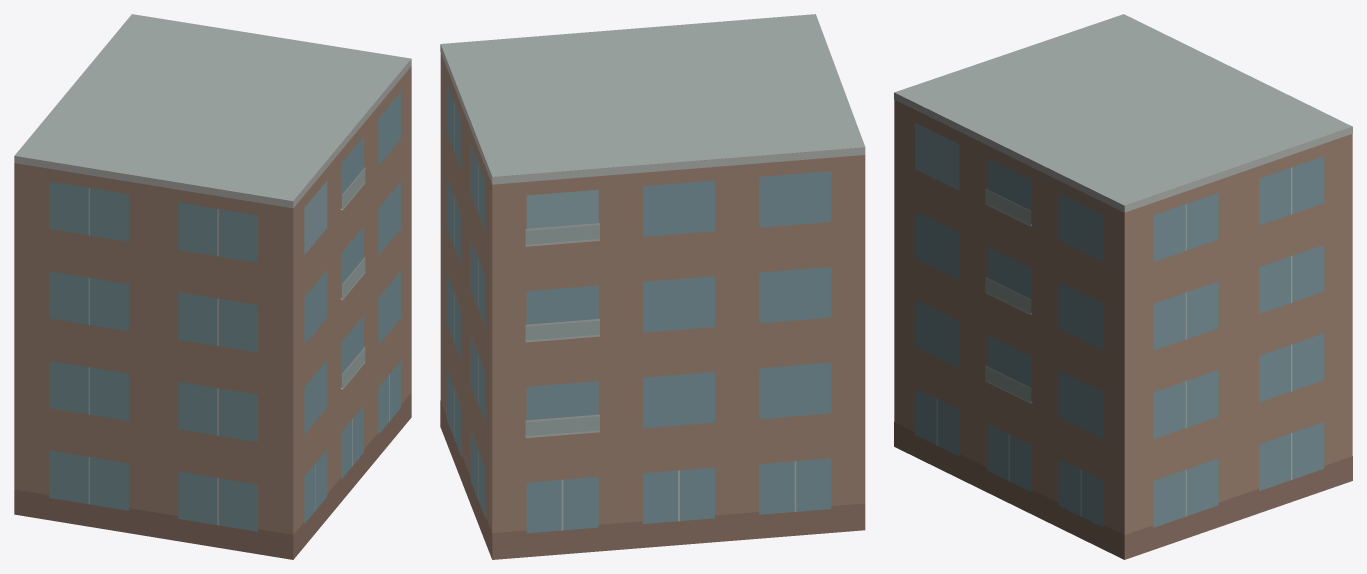
The model's file is survey-upis-32844860.glb.
The picture shows the model from 3 angles, left to right: view 1: azimuth 30°, elevation 25°; view 2: azimuth 150°, elevation 25°; view 3: azimuth 270°, elevation 25°; orthographic projection. The views are drawn at different scales.
Visible parts, largest first — view 1: survey-upis-32844860.tmp; view 2: survey-upis-32844860.tmp; view 3: survey-upis-32844860.tmp.
Boxes of the visible parts, bbox=[...] form: survey-upis-32844860.tmp: bbox=[14, 14, 411, 559]; survey-upis-32844860.tmp: bbox=[440, 14, 865, 559]; survey-upis-32844860.tmp: bbox=[894, 14, 1352, 559].
Size of the model in its own units: 14.16 by 12.2 by 14.32.
